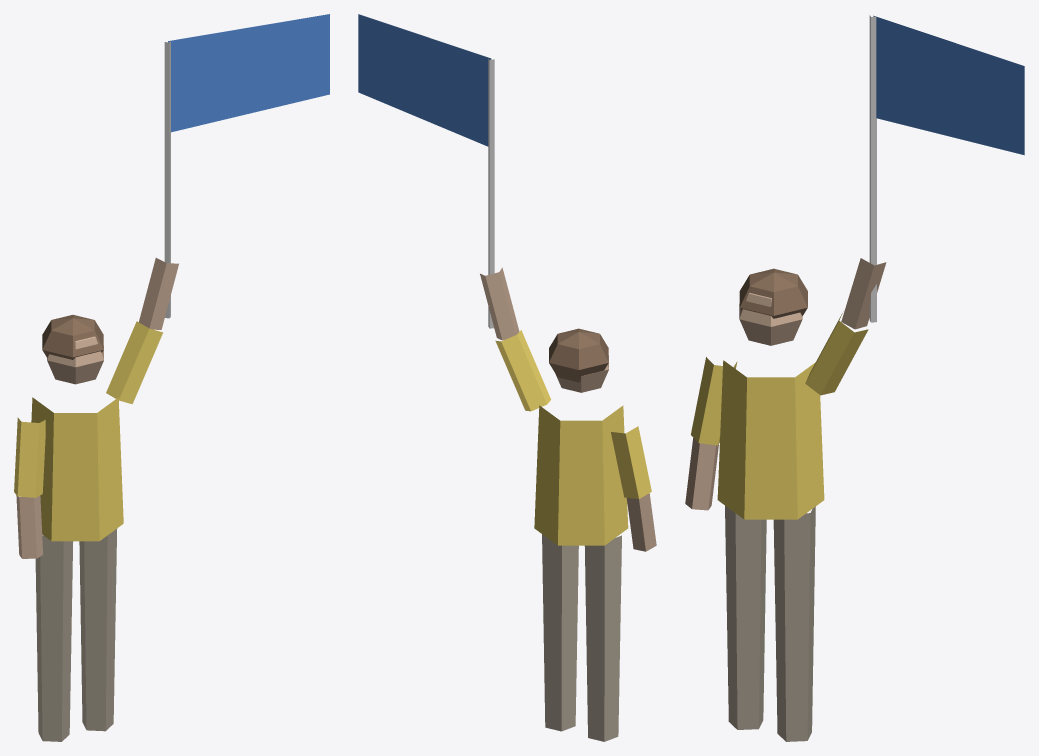
Rendered from person_flag.glb.
The picture shows the model from 3 angles, left to right: view 1: azimuth 30°, elevation 25°; view 2: azimuth 150°, elevation 25°; view 3: azimuth 330°, elevation 25°; orthographic projection. The views are drawn at different scales.
Visible parts, largest first — view 1: person_flag; view 2: person_flag; view 3: person_flag.
Boxes of the visible parts, box(x1,y1,x2,y2) form: person_flag: box(14, 14, 329, 741); person_flag: box(358, 14, 656, 741); person_flag: box(685, 15, 1024, 741).
Size of the model in its own units: 1.4 by 2.9 by 0.38.
